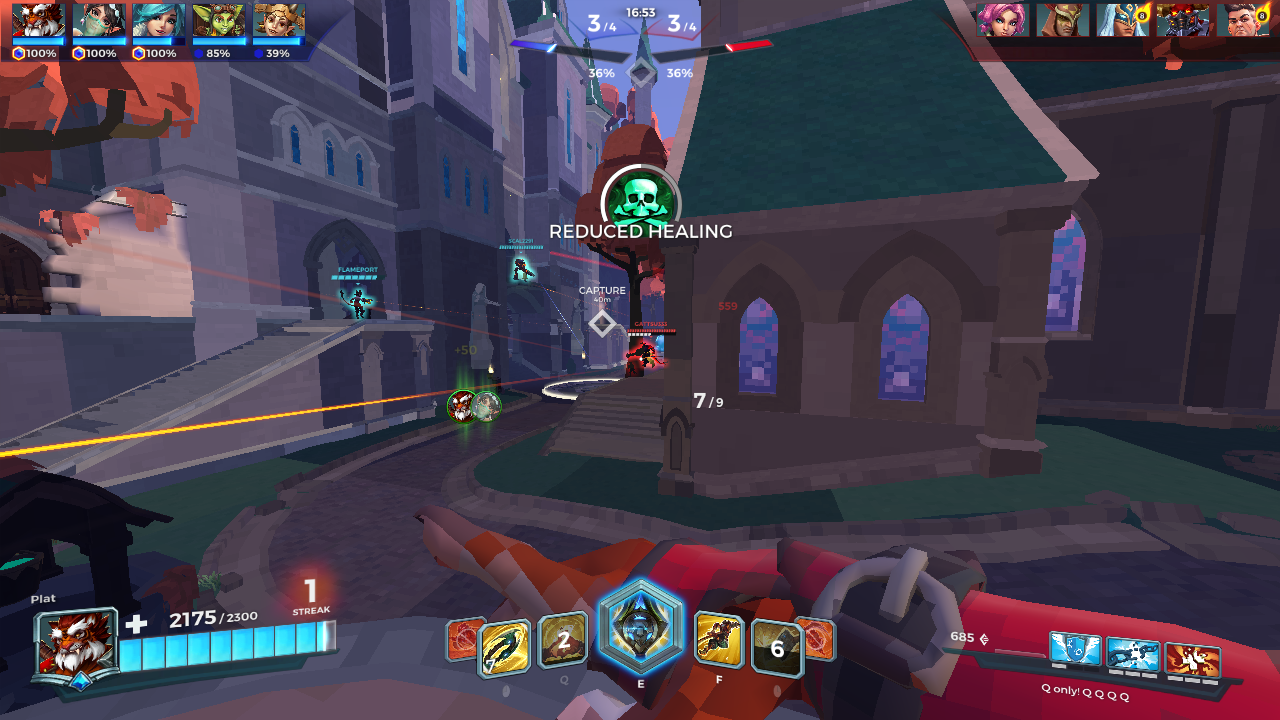model: (626, 337, 663, 370)
